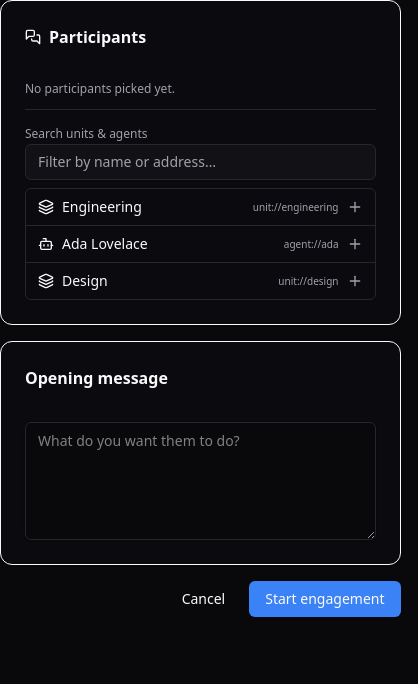
Test: NewEngagementForm — submit › blocks submit with an inline error when no participants are picked
Type "hello" into the text box with test id "engagement-new-body" at (200, 481), box x1=25 y1=422 x2=376 y2=540
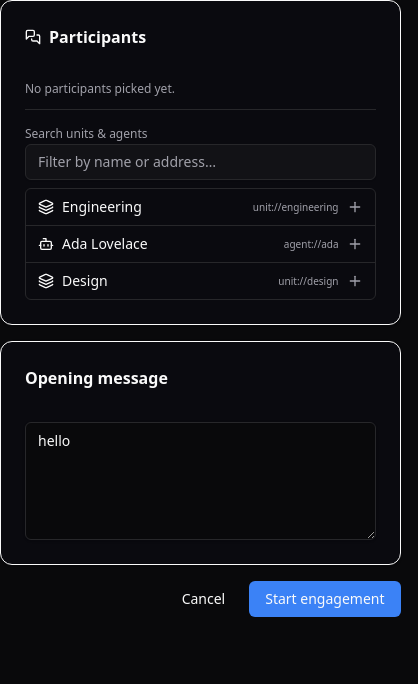
Click the button with test id "engagement-new-submit" at (325, 599), box x1=249 y1=581 x2=400 y2=617
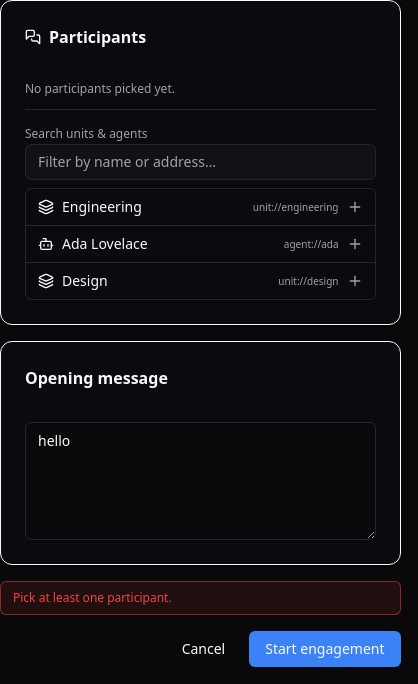
Check: the message with test id "engagement-new-error" shows "at least one participant", box x1=13 y1=589 x2=172 y2=606
